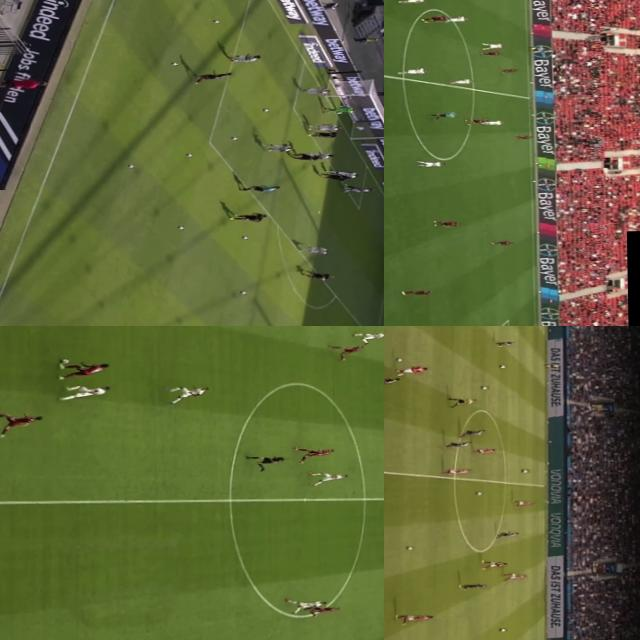ball: (60, 356, 74, 362), (186, 150, 194, 156), (126, 162, 137, 166), (260, 108, 272, 111), (170, 61, 178, 65), (240, 290, 248, 294), (396, 356, 404, 360), (500, 363, 506, 368), (213, 19, 220, 23), (178, 225, 185, 229), (233, 136, 239, 140), (242, 235, 250, 238), (500, 627, 506, 631), (522, 468, 529, 471), (480, 386, 487, 388), (475, 491, 482, 493), (406, 546, 412, 548)
player: (56, 362, 110, 382), (61, 383, 112, 402), (0, 412, 46, 433), (168, 384, 208, 402), (292, 446, 336, 462), (284, 598, 326, 613), (195, 68, 233, 84), (309, 471, 351, 484), (334, 344, 366, 359), (394, 612, 432, 624), (224, 210, 266, 220), (303, 605, 343, 615), (299, 268, 335, 279), (260, 140, 292, 152), (396, 64, 426, 76), (357, 328, 384, 341), (396, 364, 428, 374), (396, 288, 434, 296), (230, 52, 260, 62), (318, 170, 348, 180), (298, 242, 328, 252), (478, 558, 508, 568), (298, 85, 328, 94), (291, 151, 321, 160), (418, 14, 448, 23), (414, 159, 444, 168), (326, 168, 358, 176), (304, 123, 340, 130), (306, 131, 341, 138), (432, 219, 462, 227), (477, 41, 503, 50), (474, 48, 502, 56), (446, 77, 474, 85), (458, 581, 488, 588), (384, 374, 399, 388), (322, 106, 356, 112), (466, 116, 488, 125), (304, 152, 332, 158), (444, 15, 468, 22), (500, 66, 520, 74), (345, 186, 371, 192), (478, 120, 504, 126), (512, 132, 534, 138), (511, 499, 533, 505), (504, 572, 526, 578), (462, 428, 484, 434), (444, 467, 469, 472), (496, 530, 516, 536), (445, 440, 469, 445), (488, 240, 514, 244), (478, 447, 498, 451), (496, 340, 515, 344), (396, 0, 426, 2)
